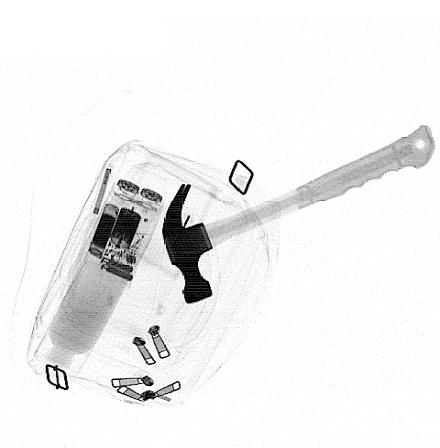Hammer: (161, 125, 435, 306)
